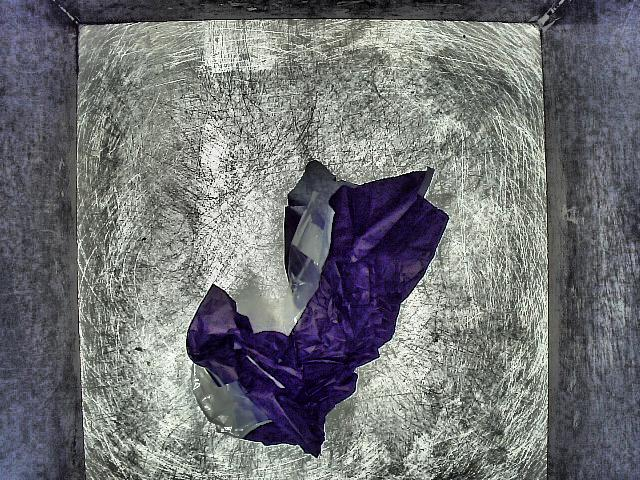Paper: (182, 149, 451, 459)
